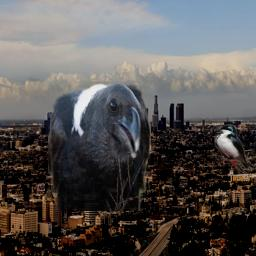Crow: (48, 81, 151, 211)
Swallow: (214, 124, 254, 172)
